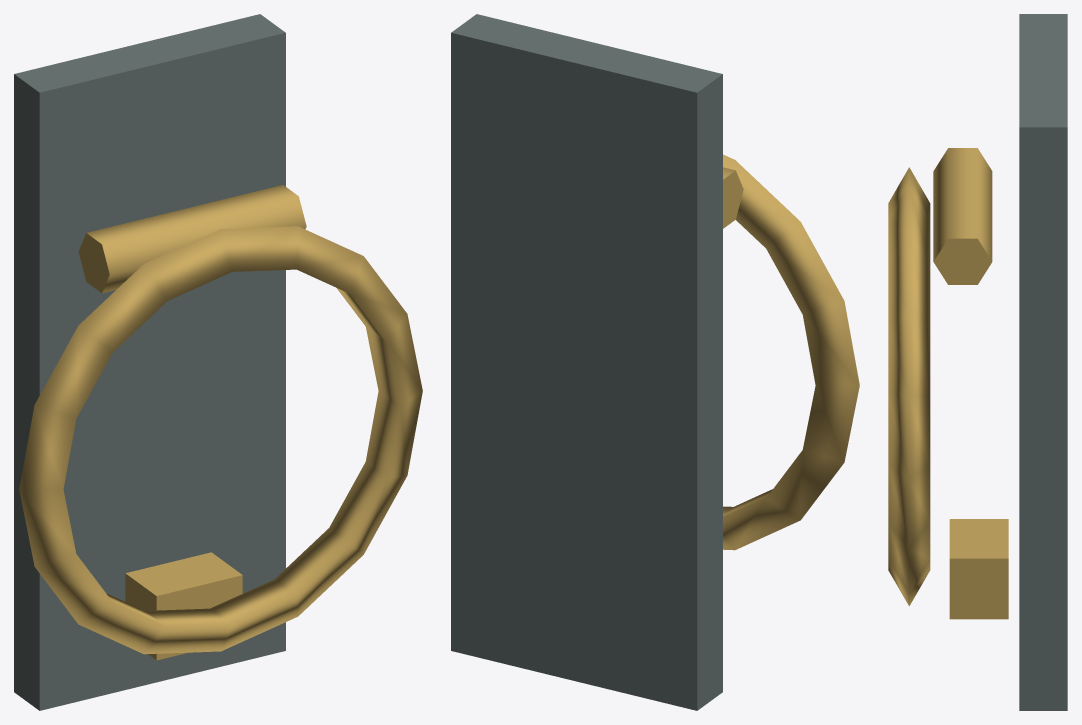
3 renders of one model, left to right at view 1: azimuth 30°, elevation 25°; view 2: azimuth 150°, elevation 25°; view 3: azimuth 270°, elevation 25°, orthographic. The views are drawn at different scales.
Visible parts, largest first — view 1: part-1, part-2, part-3, part-4; view 2: part-1, part-2, part-3; view 3: part-1, part-2, part-3, part-4.
Part boxes in pixels (x1=…): part-1: x1=14, y1=14, x2=285, y2=710; part-2: x1=19, y1=226, x2=422, y2=654; part-3: x1=78, y1=185, x2=306, y2=293; part-4: x1=125, y1=552, x2=242, y2=660; part-1: x1=451, y1=14, x2=722, y2=710; part-2: x1=723, y1=154, x2=859, y2=550; part-3: x1=723, y1=167, x2=743, y2=228; part-1: x1=1019, y1=14, x2=1067, y2=710; part-2: x1=888, y1=167, x2=930, y2=606; part-3: x1=933, y1=148, x2=992, y2=284; part-4: x1=949, y1=519, x2=1008, y2=619.
Bounding box in the file's own units: 0.164 × 0.24 × 0.0668.
